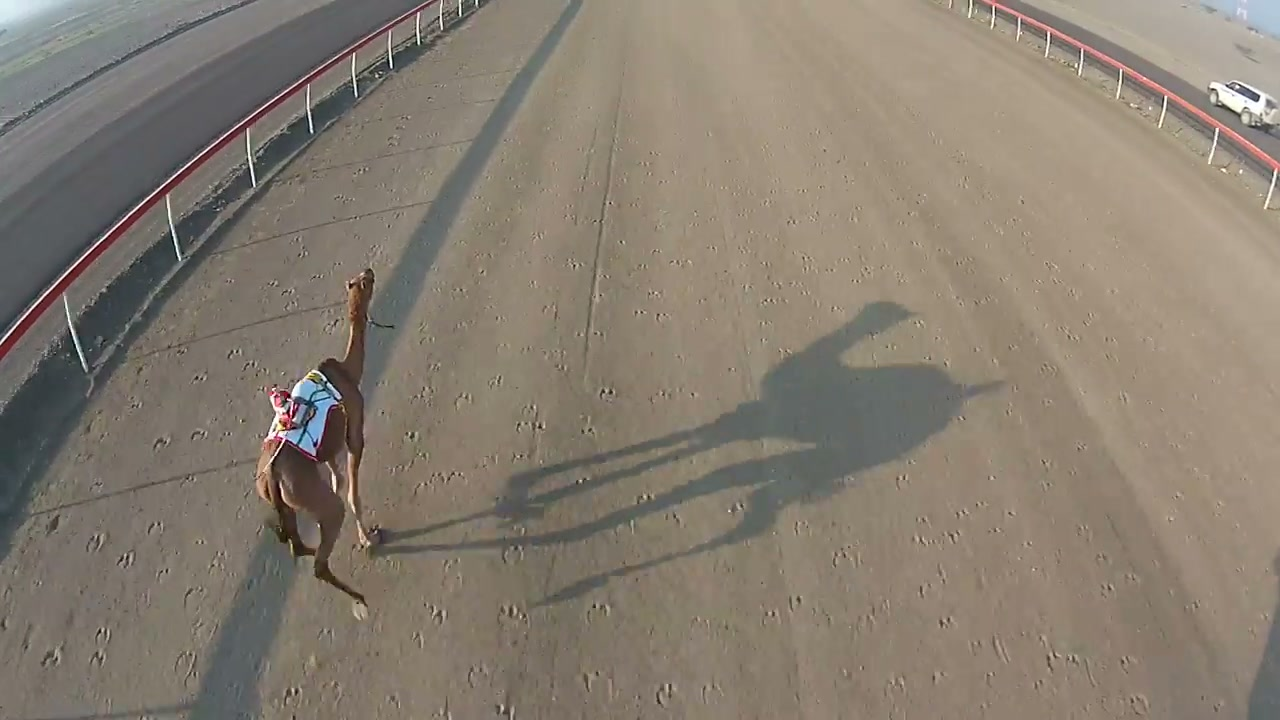animal_footprint: (8, 213, 335, 700), (268, 271, 537, 718)
